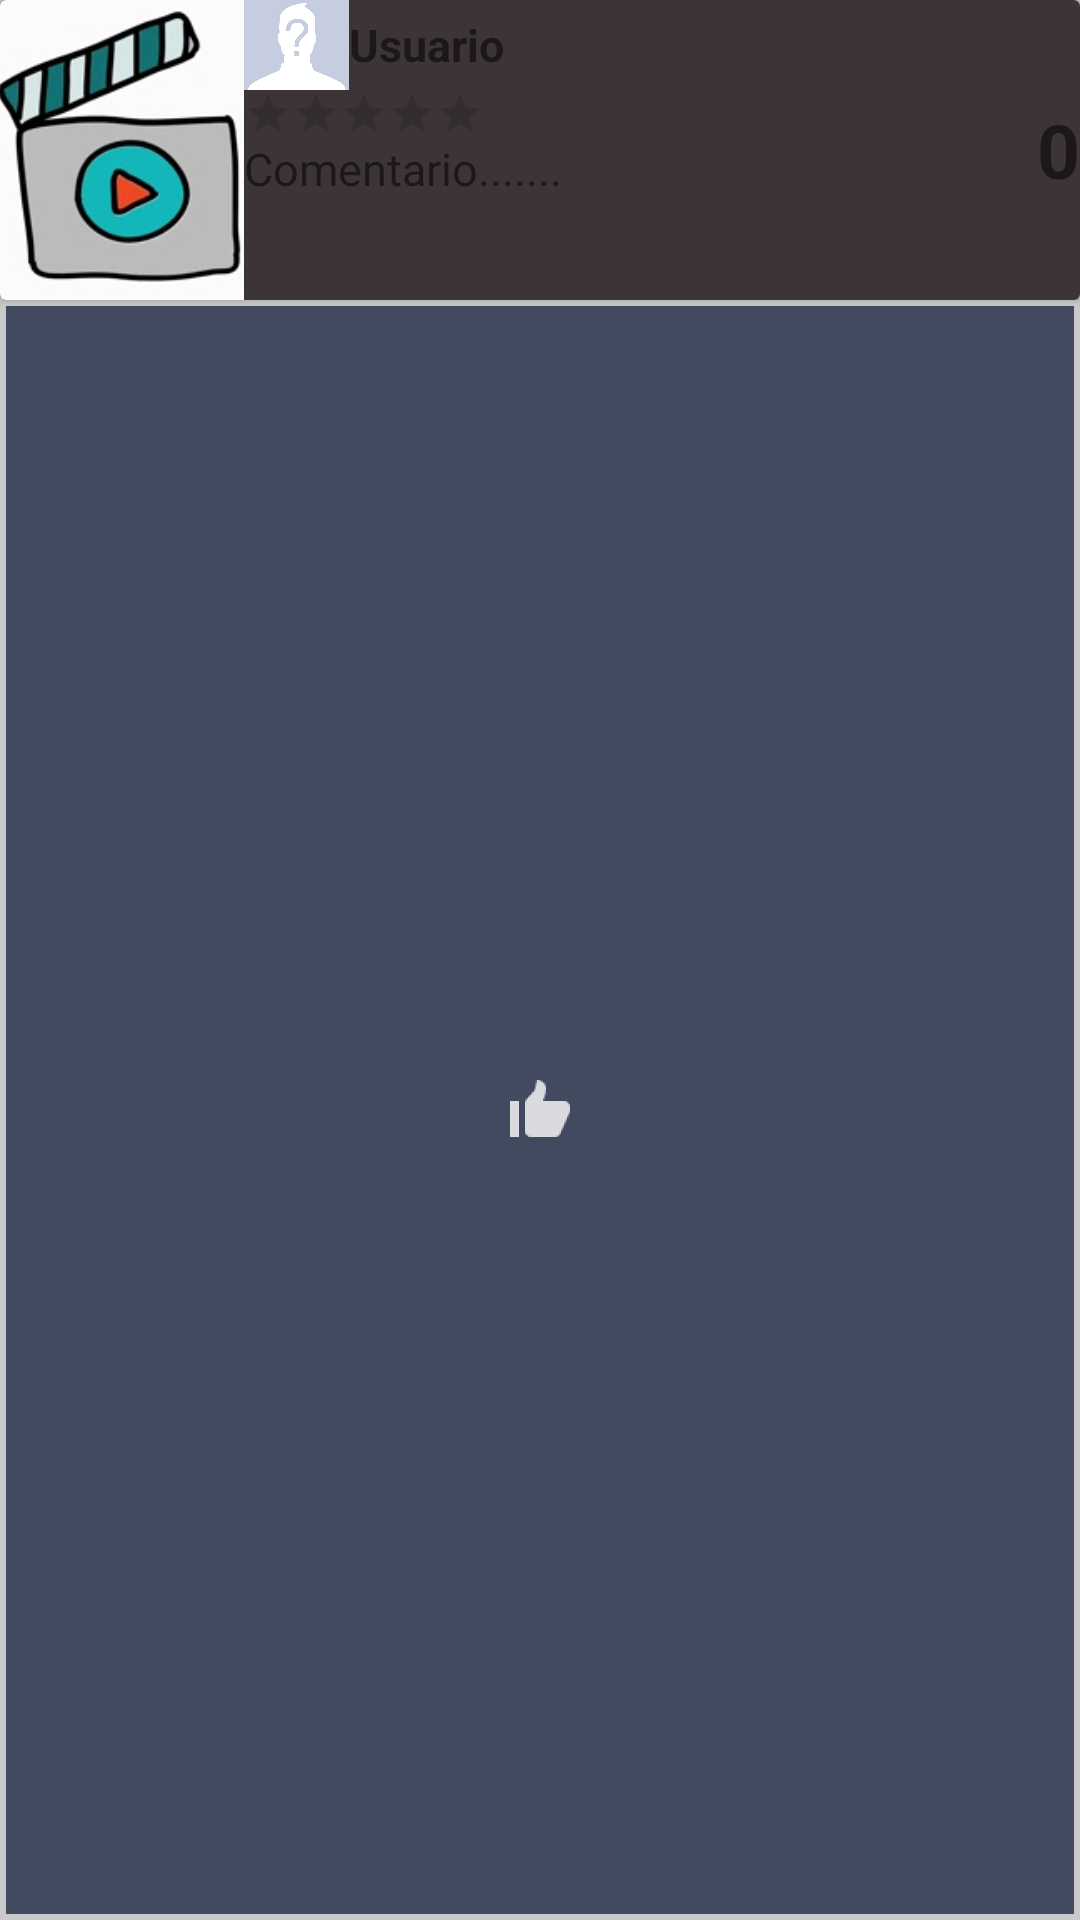

Icon click points for this 1080 × 1920 phone screenshot, format [x,y]:
like: [540,1108]
play movie sketch: [122,150]
